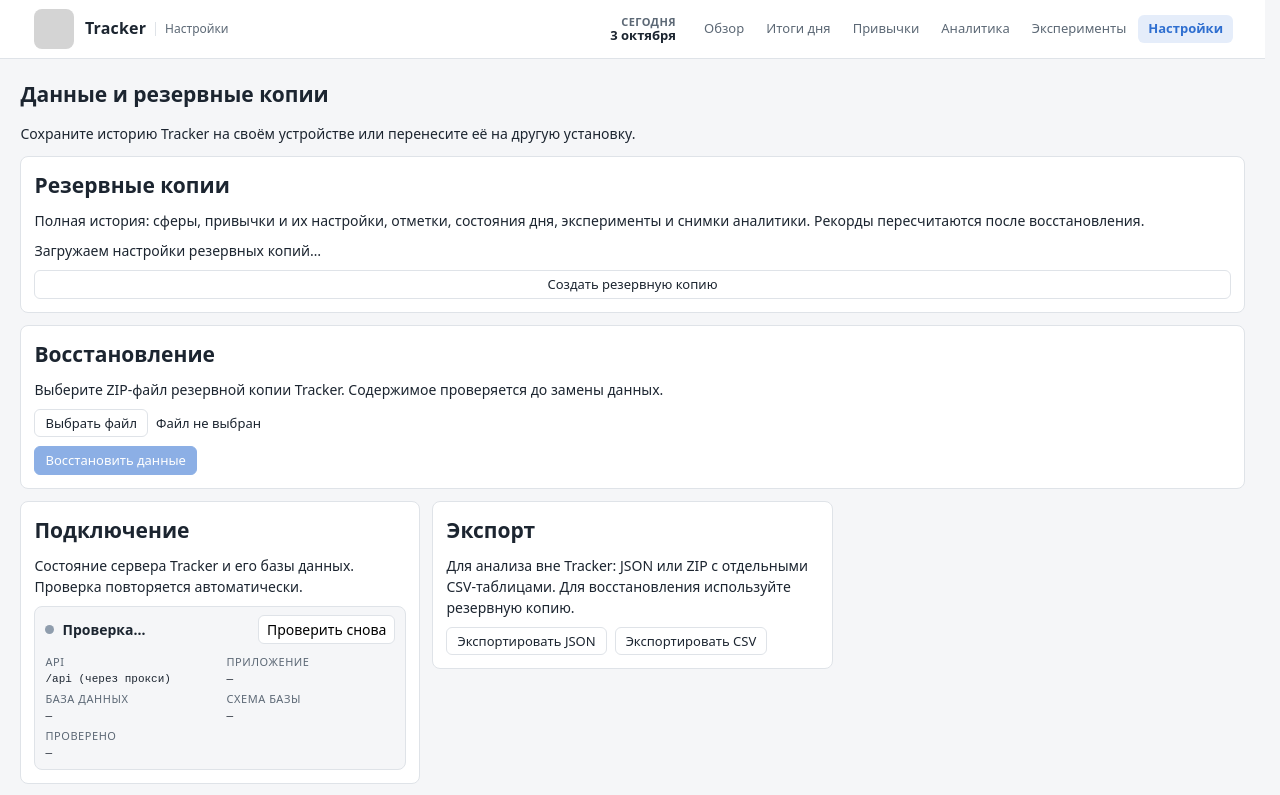
Test: App shell › reports a running backend whose database is unavailable
Click the link "Настройки": point(1186, 29) [1138,15,1233,43]
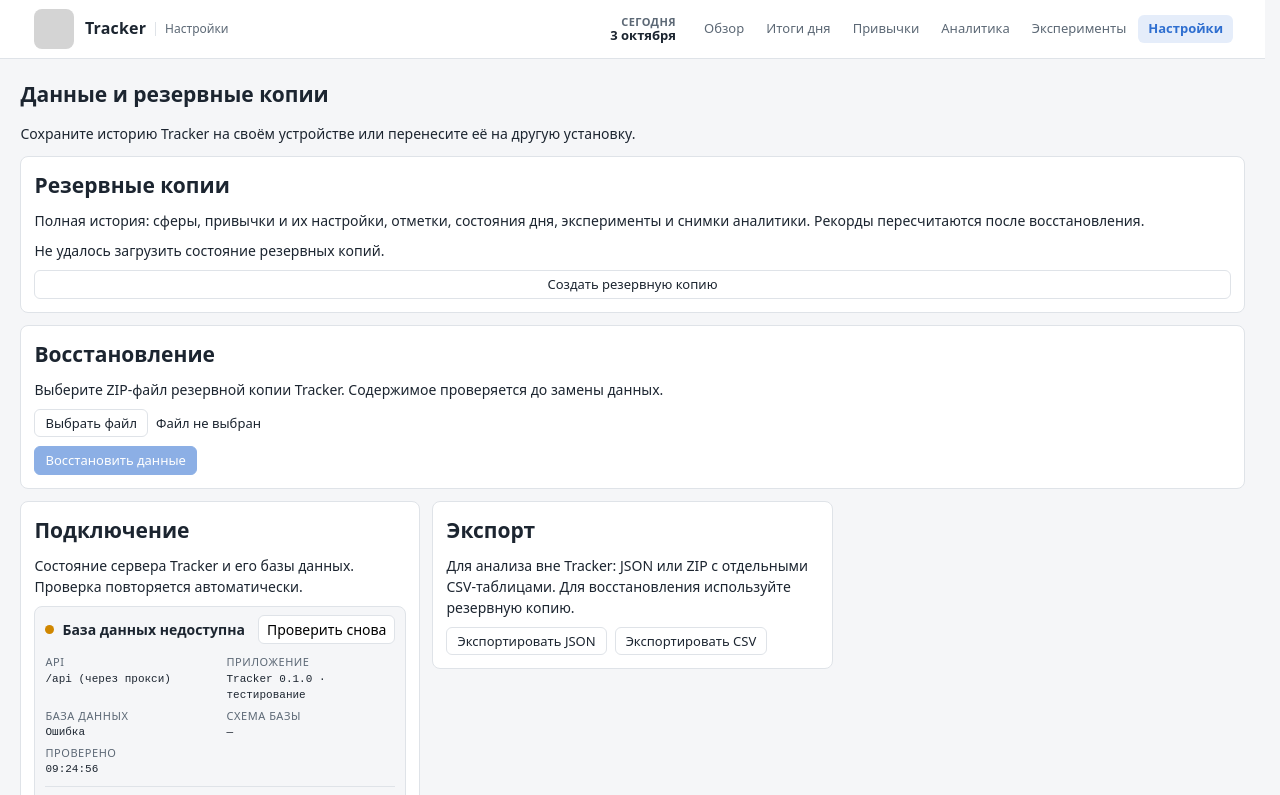
Expected: the text "База данных недоступна" is shown, [62,619,245,640]
Expected: the text "Ошибка" is shown, [46,726,85,738]
